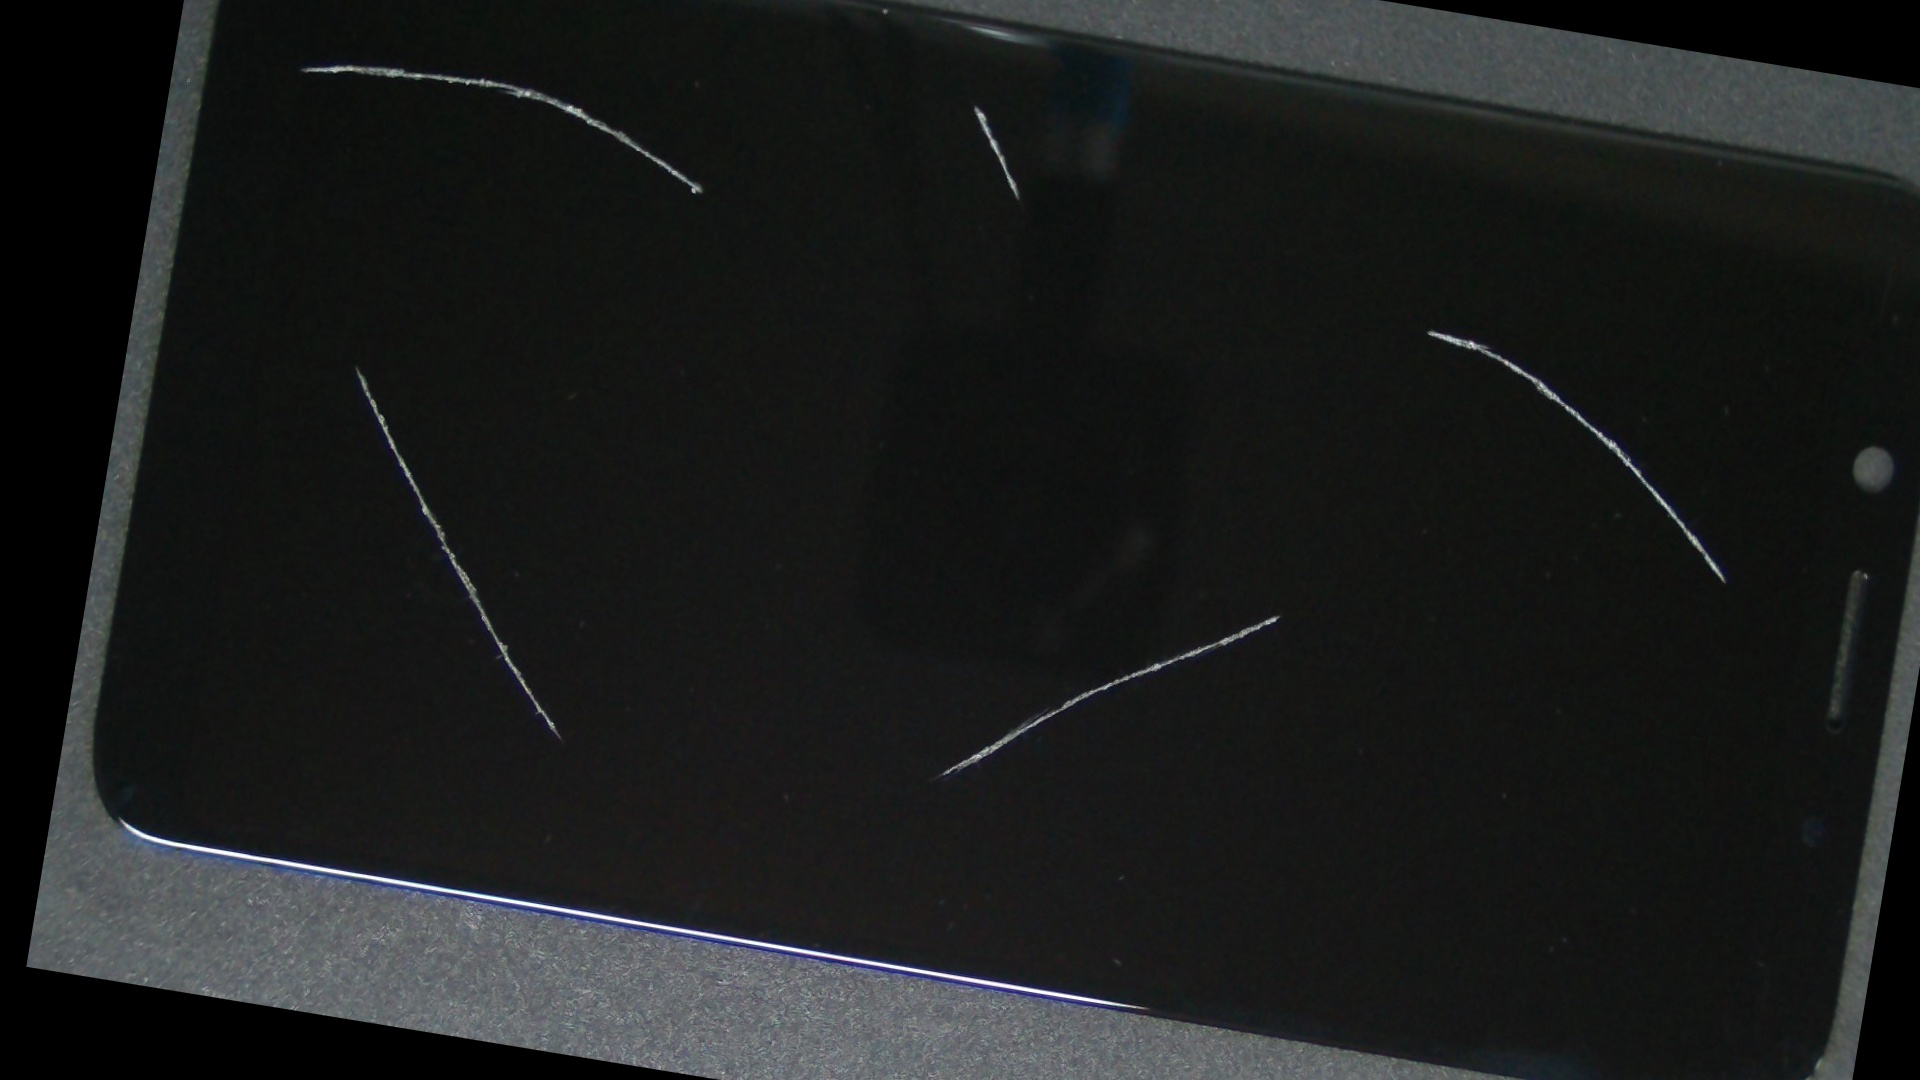oil: (649, 211, 1913, 1017), (774, 69, 1920, 576), (567, 0, 1381, 253), (200, 87, 512, 644), (314, 0, 651, 212)
